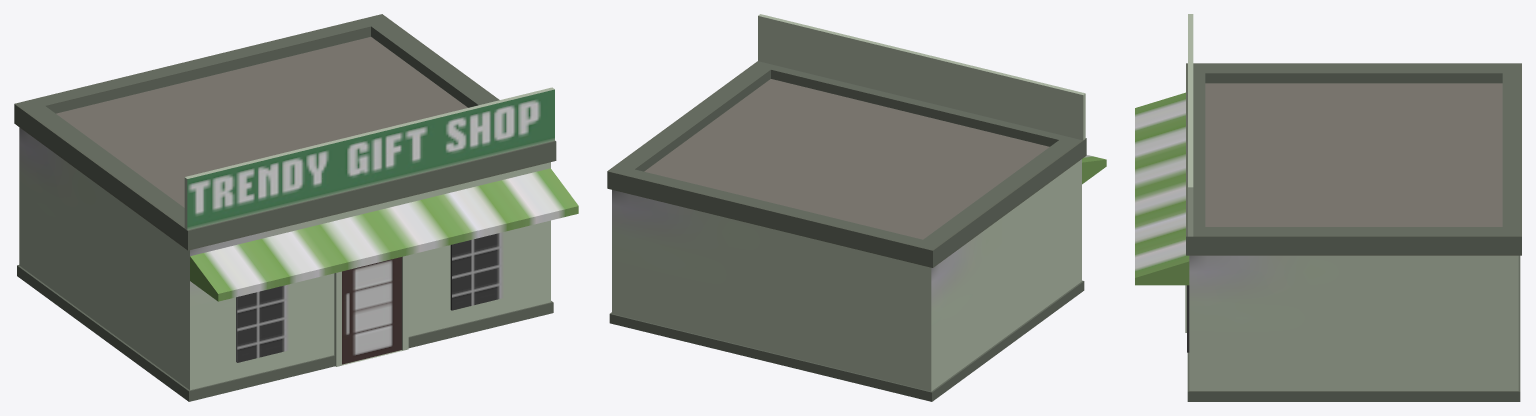
Rendered from Building_Gift Shop.fbx.
3 renders of one model, left to right at view 1: azimuth 30°, elevation 25°; view 2: azimuth 150°, elevation 25°; view 3: azimuth 270°, elevation 25°, orthographic. The views are drawn at different scales.
Parts seen in each view (by area): view 1: Building_Gift Shop; view 2: Building_Gift Shop; view 3: Building_Gift Shop.
Part boxes in pixels (<box>): Building_Gift Shop: <box>14,14,578,401</box>; Building_Gift Shop: <box>607,14,1106,401</box>; Building_Gift Shop: <box>1135,14,1521,401</box>.
Size of the model in its own units: 1122 by 650 by 1057.
